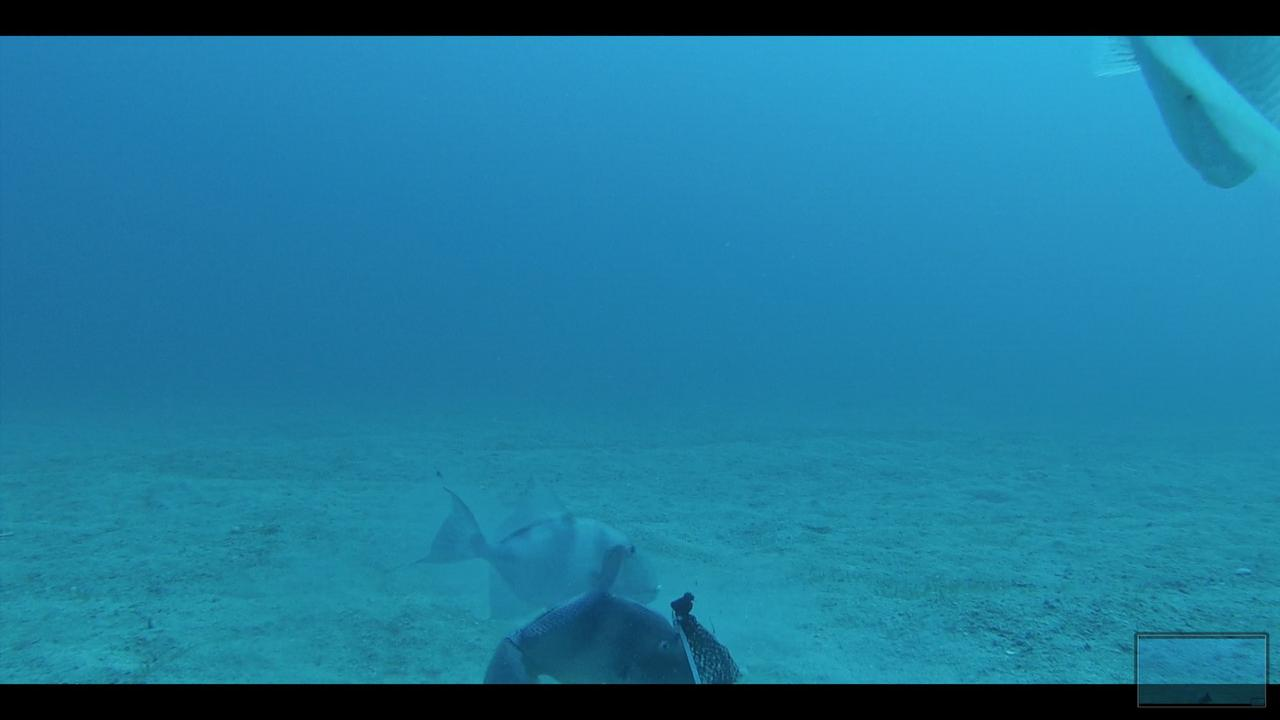balistes: (401, 468, 661, 621), (474, 544, 692, 682)
